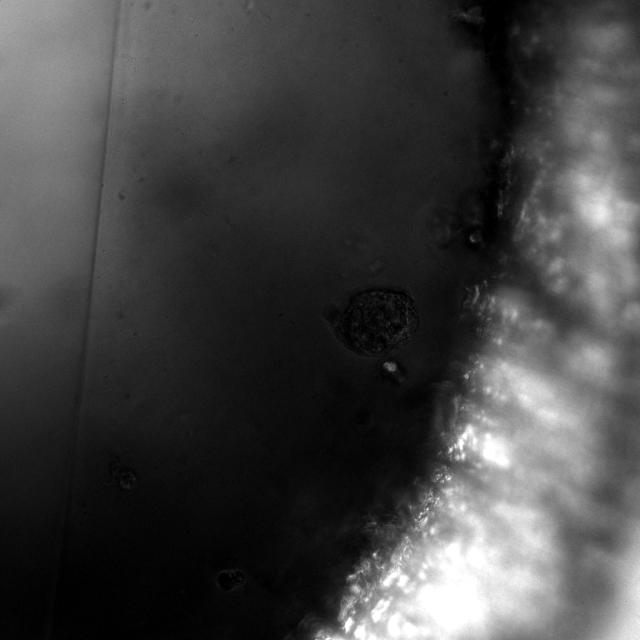organoid: (324, 289, 418, 357), (424, 194, 484, 247), (380, 359, 407, 384)
